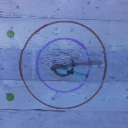Axe Tip: (55, 66, 68, 68)
